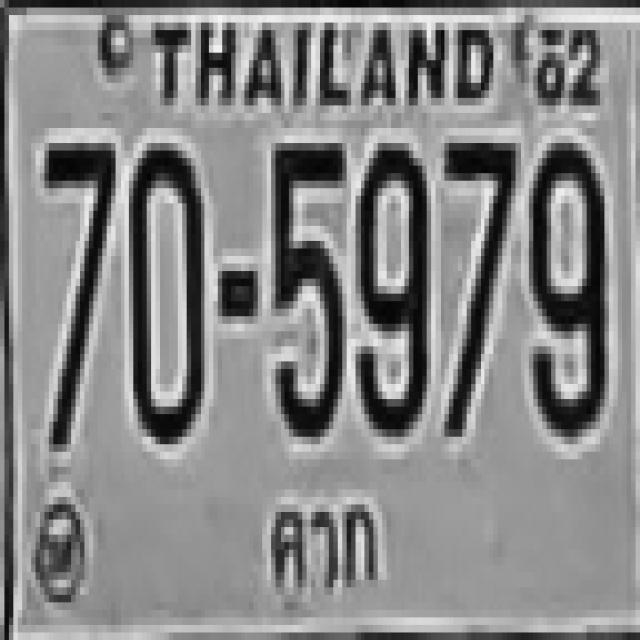0: (127, 136, 202, 437)
5: (271, 136, 342, 429)
7: (40, 136, 111, 444), (440, 136, 511, 429), (40, 136, 111, 362)
9: (351, 136, 427, 429), (529, 136, 604, 429)
Tak: (264, 486, 394, 613)
